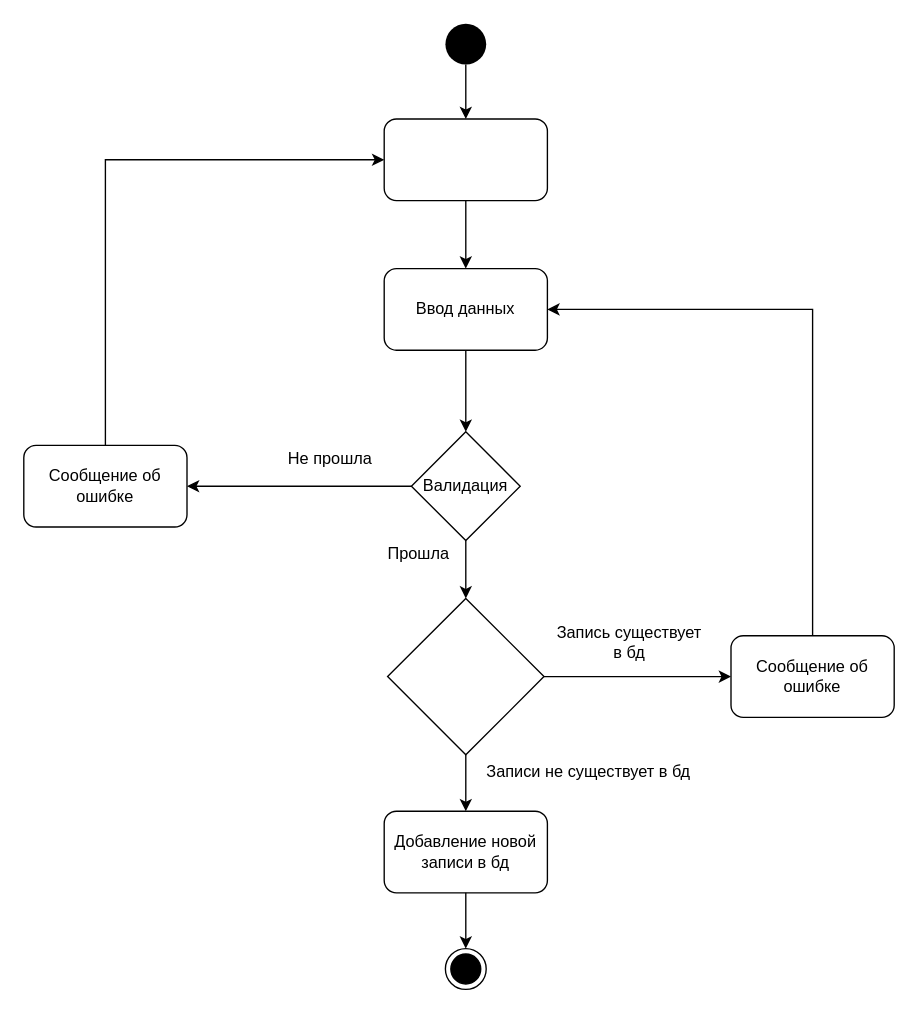
Image size: 918x1013. Some labels were removed from this diagram. The box of each missing label's shape, as (x1, y1, x2, y2) in pixels:
Проверка существования записи в бд: (386, 597, 544, 755)
Регистрация: (383, 118, 547, 201)
